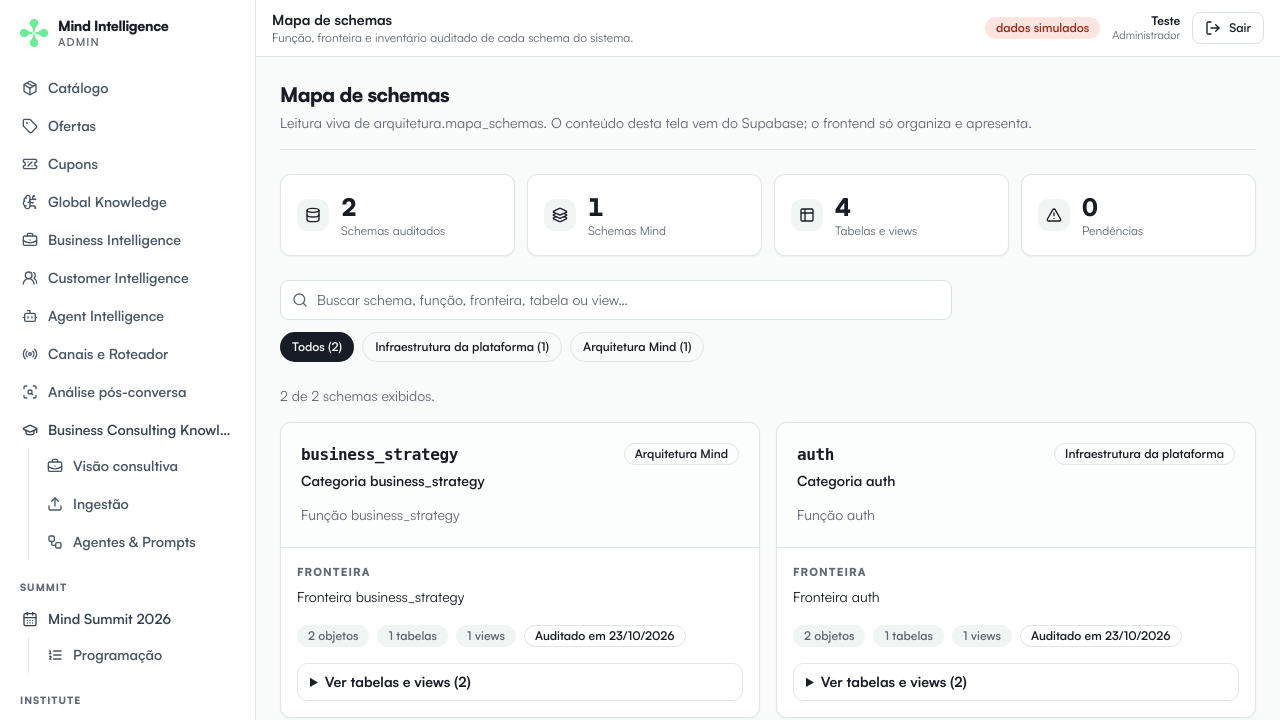
mapa de schemas › mostra dados vindos do Supabase, filtra e expande objetos
expect the heading "business_strategy" is shown: met, box [301,443,485,467]
expect the heading "auth" is shown: met, box [797,445,834,464]
Type "business" into the field with placeholder "Buscar schema, função, fronteira, tabela ou view…" at (616, 300), box [280,280,952,320]
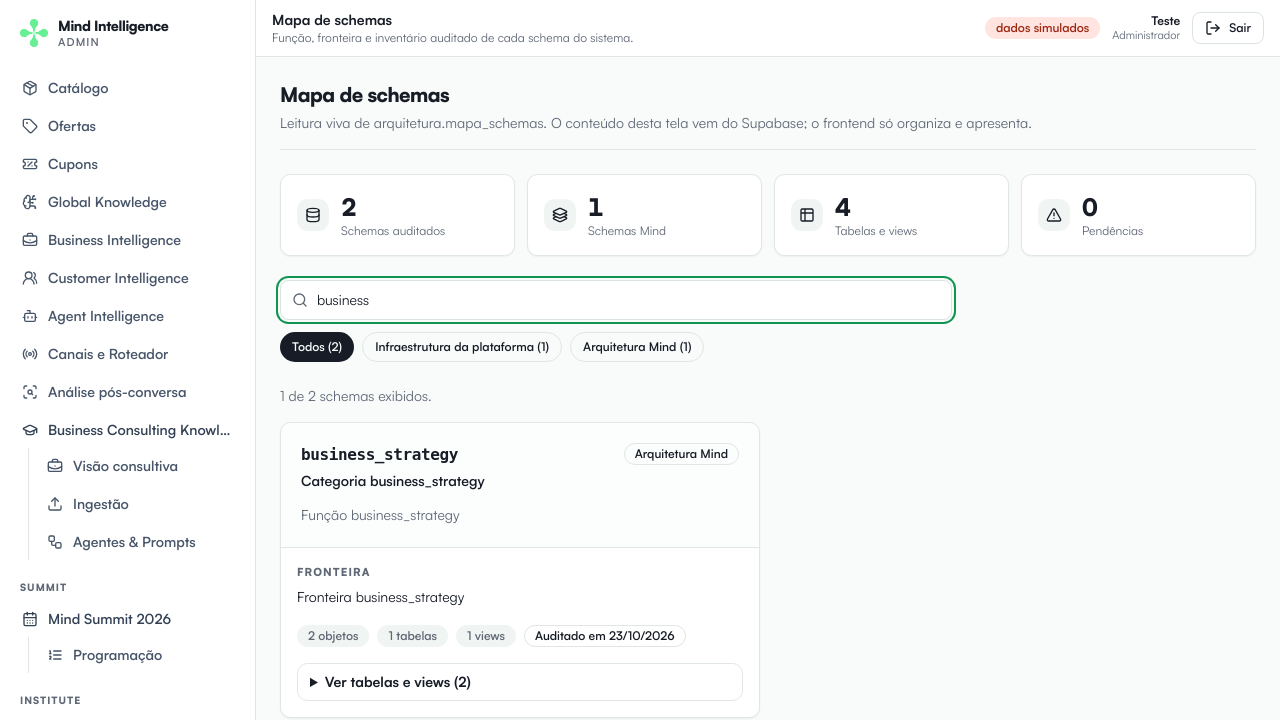
expect the heading "business_strategy" is shown: met, box [301,443,485,467]
expect the heading "auth" is gone: met
Click the heading "Ver tabelas e views (2)" at (398, 681), box [325,672,471,690]
(page scrolled)
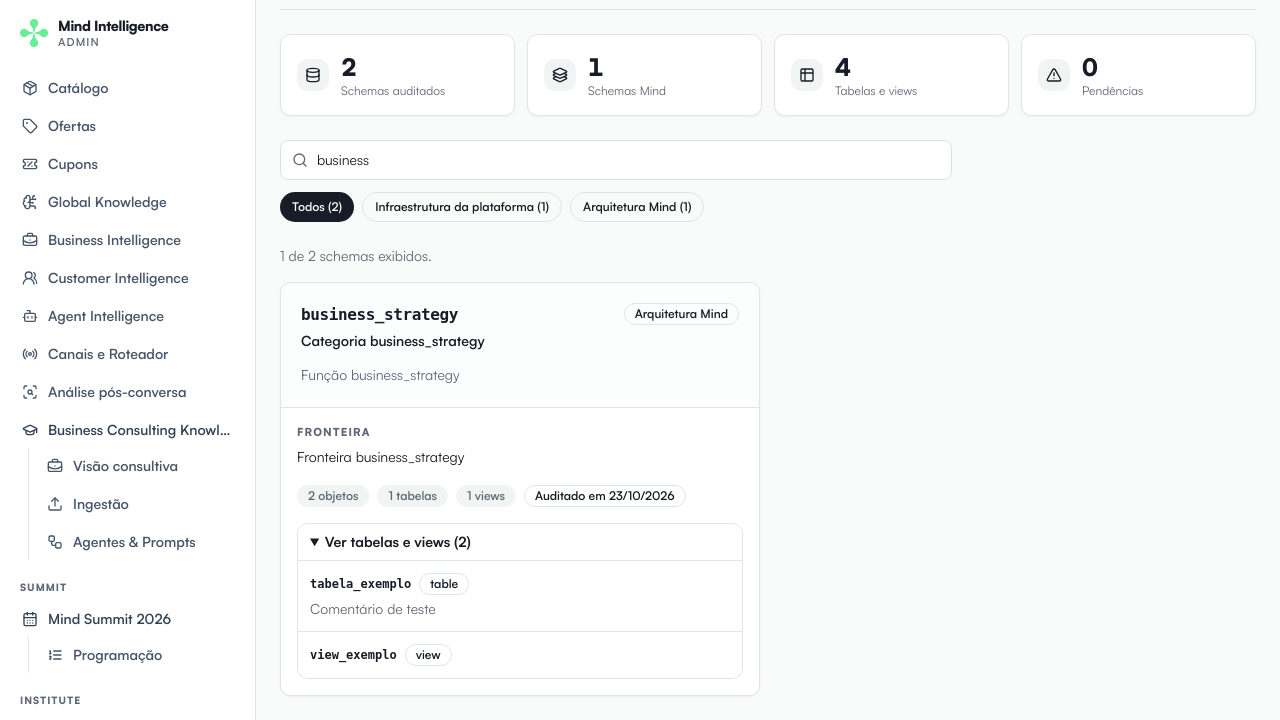
expect the text "tabela_exemplo" is shown: met, box [310,576,411,592]
expect the text "Comentário de teste" is shown: met, box [310,600,436,616]
